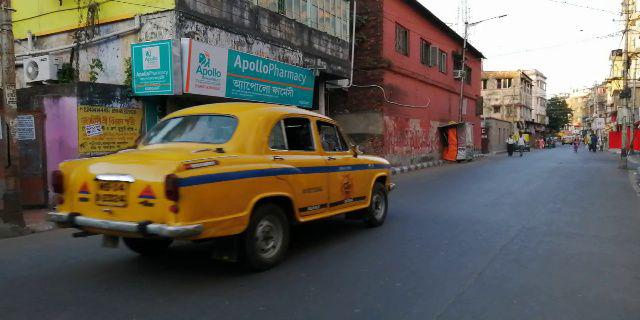Car: (49, 97, 399, 264)
